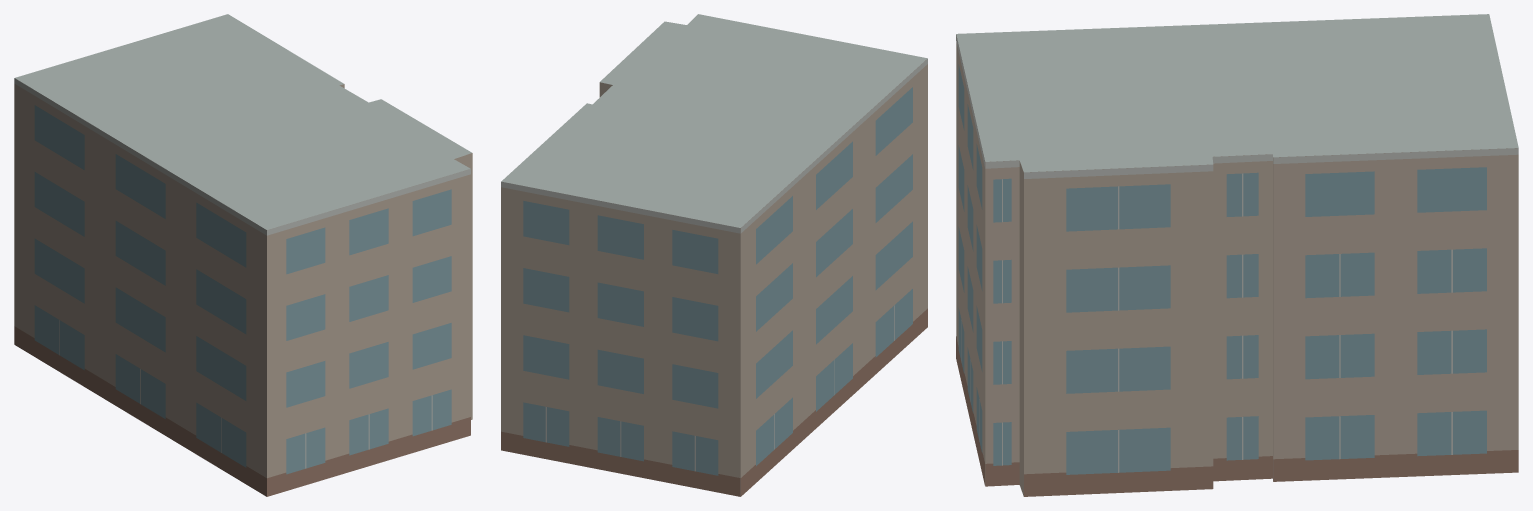
Rendered from survey-upis-32918807.glb.
3 renders of one model, left to right at view 1: azimuth 30°, elevation 25°; view 2: azimuth 150°, elevation 25°; view 3: azimuth 270°, elevation 25°, orthographic. The views are drawn at different scales.
Visible parts, largest first — view 1: survey-upis-32918807.tmp; view 2: survey-upis-32918807.tmp; view 3: survey-upis-32918807.tmp.
Part boxes in pixels (box(x1,y1,x2,y2)): survey-upis-32918807.tmp: box(14, 14, 472, 496); survey-upis-32918807.tmp: box(501, 14, 927, 496); survey-upis-32918807.tmp: box(956, 14, 1518, 496).
Size of the model in its own units: 12.26 by 11.7 by 18.4.
